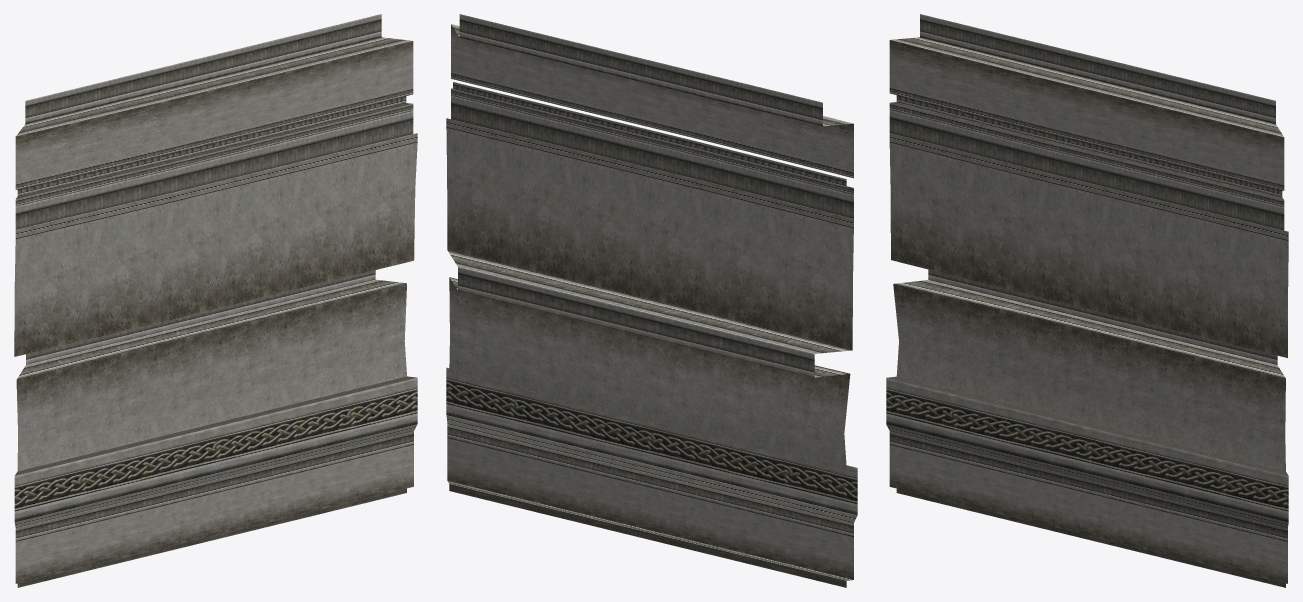
File: DWARF_PALACE_MAINHALL_WALL02B02.fbx
3 renders of one model, left to right at view 1: azimuth 30°, elevation 25°; view 2: azimuth 150°, elevation 25°; view 3: azimuth 330°, elevation 25°, orthographic. The views are drawn at different scales.
Visible parts, largest first — view 1: DWARF_PALACE_MAINHALL_WALL02B02; view 2: DWARF_PALACE_MAINHALL_WALL02B02; view 3: DWARF_PALACE_MAINHALL_WALL02B02.
Boxes of the visible parts, x1,y1,x2,y2 form: DWARF_PALACE_MAINHALL_WALL02B02: (14,14,417,587); DWARF_PALACE_MAINHALL_WALL02B02: (446,14,857,587); DWARF_PALACE_MAINHALL_WALL02B02: (886,14,1288,587).
Size of the model in its own units: 181000 by 205000 by 12001.
8 materials, 8 textured.
